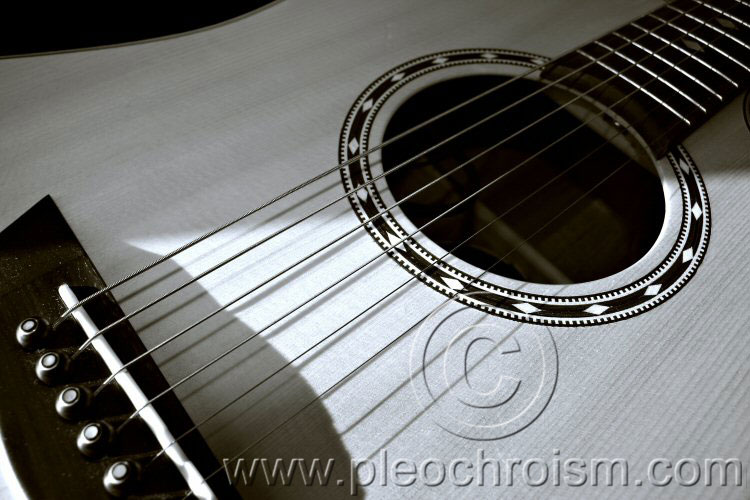guitar: (6, 1, 749, 500)
